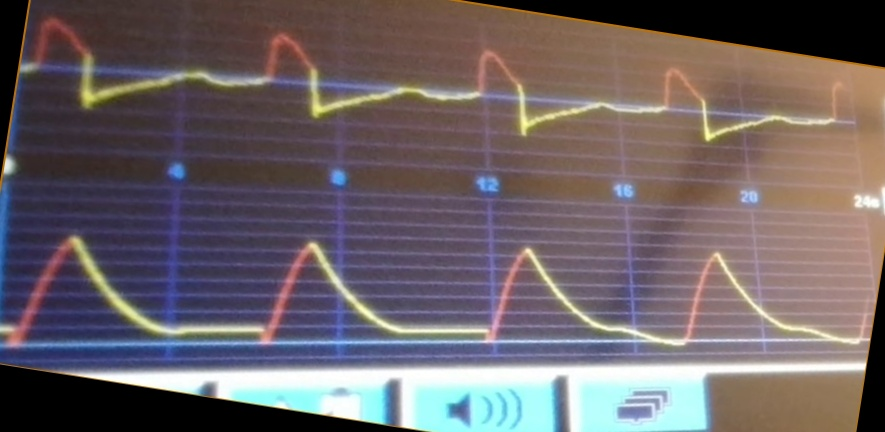Ineffective_effort Flow: (29, 12, 845, 146)
Ineffective_effort Volume: (3, 227, 864, 355)
